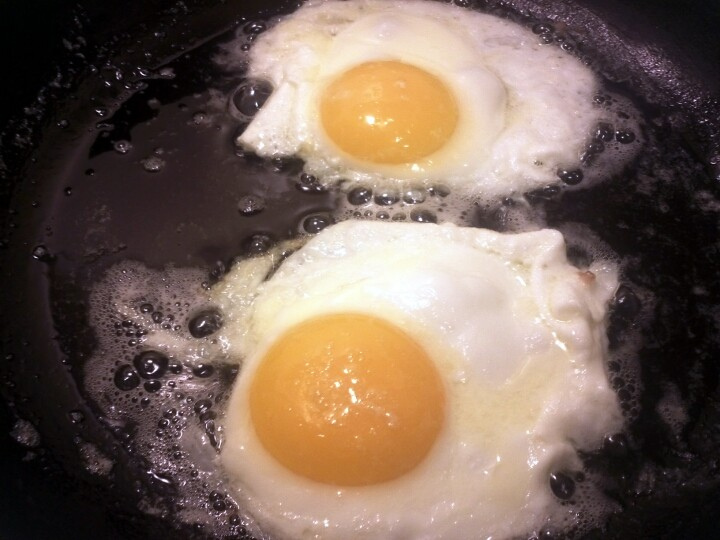fried egg: (219, 224, 591, 540), (259, 1, 589, 194)
